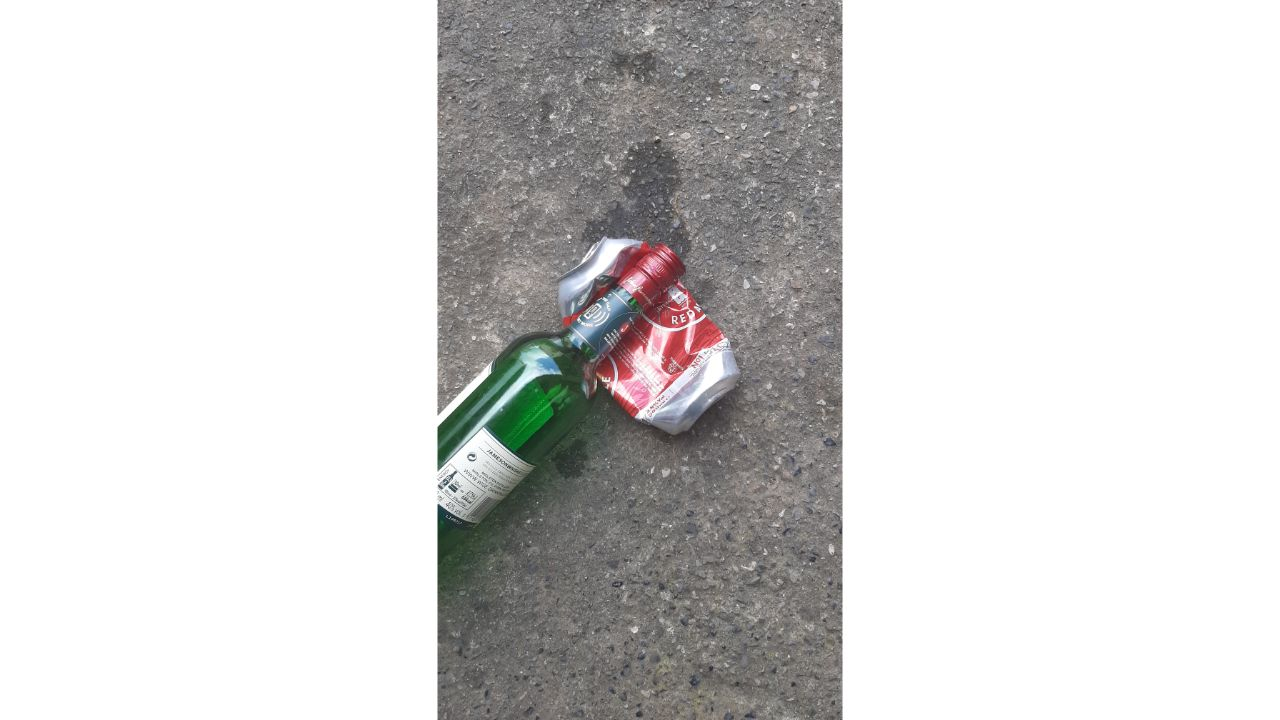Can: (552, 228, 751, 448)
